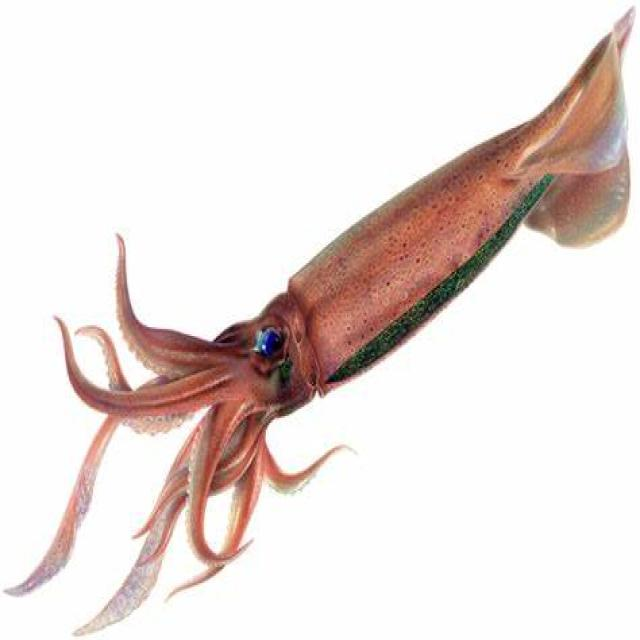SQUID: (28, 31, 640, 524)
